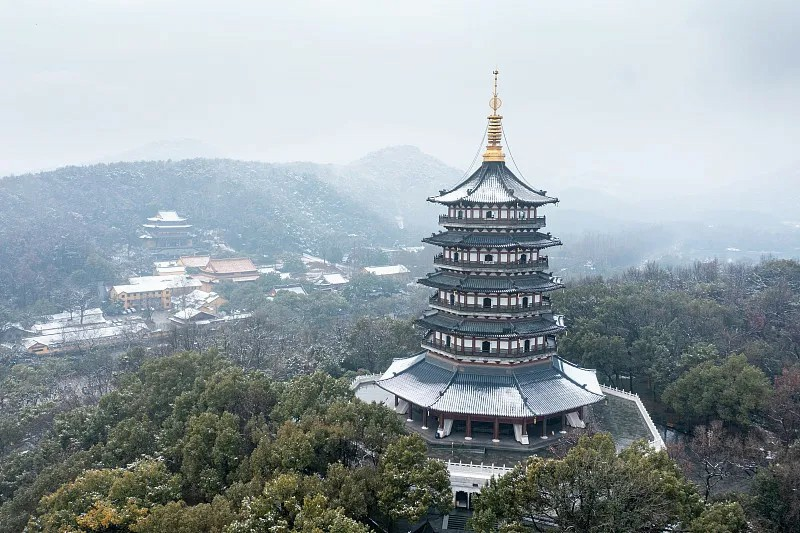Leifeng: (372, 71, 606, 440)
